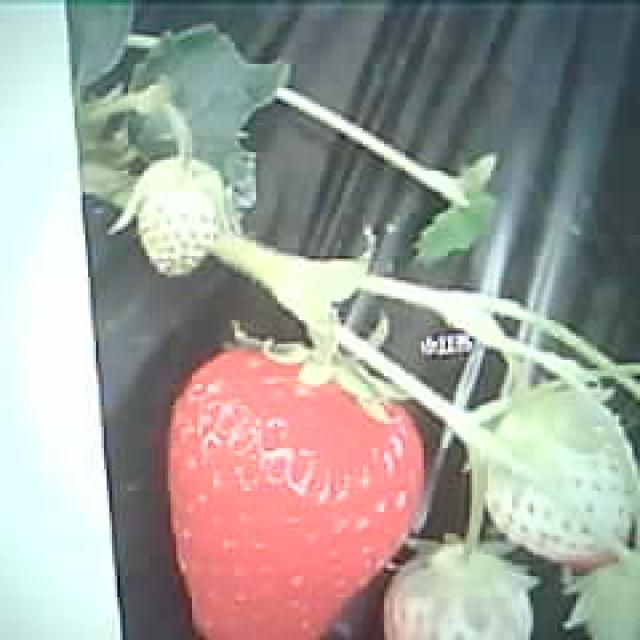strawberry: (168, 344, 424, 640), (482, 386, 636, 562), (137, 154, 223, 275)
